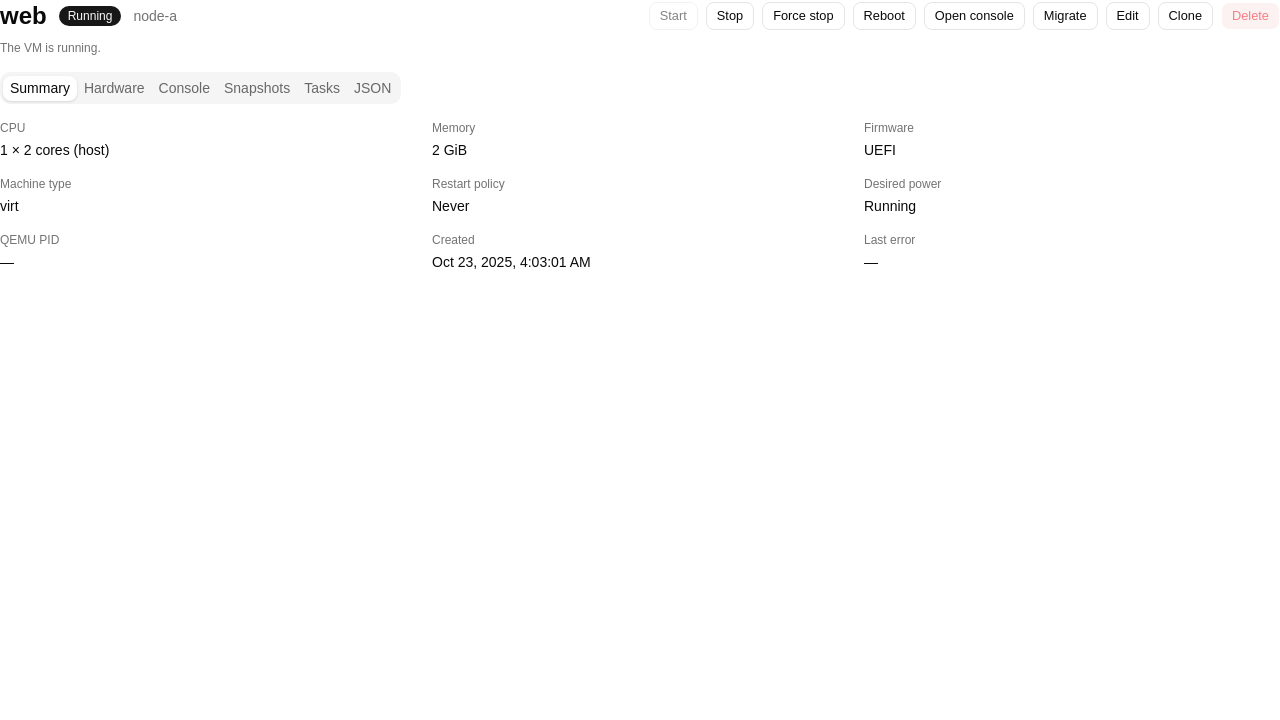
Test: says when no node can take the VM
The width and height of the screenshot is (1280, 720).
Click the button "Migrate".
click(1065, 16)  # box [1033,2,1098,30]
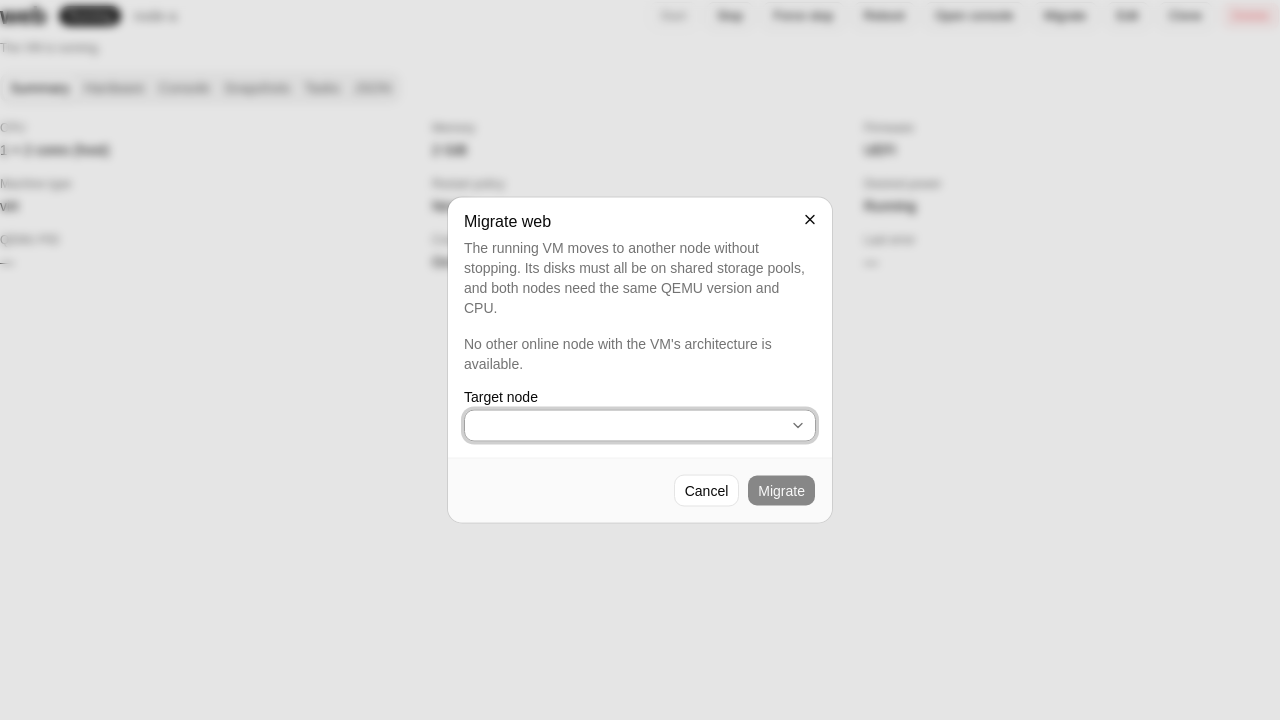
Result: the text "No other online node with the VM's architecture is available." is shown at [464,334,816,374]
Result: the button "Migrate" is disabled at [747,474,816,506]
